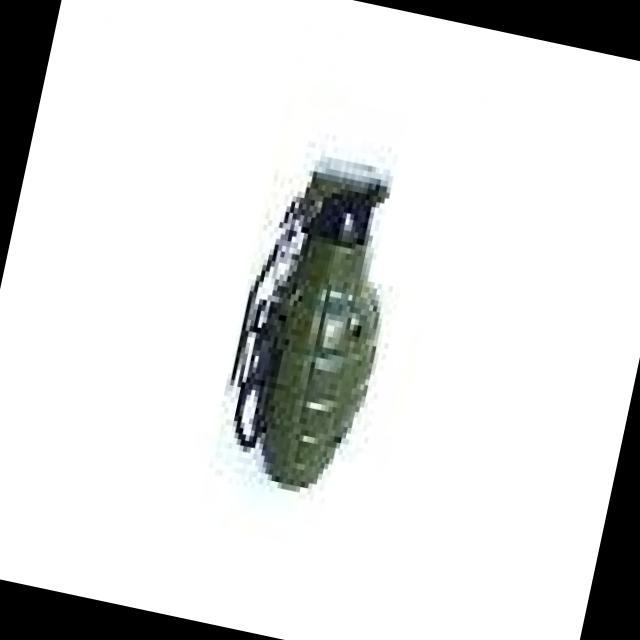grenade: (207, 146, 438, 524)
